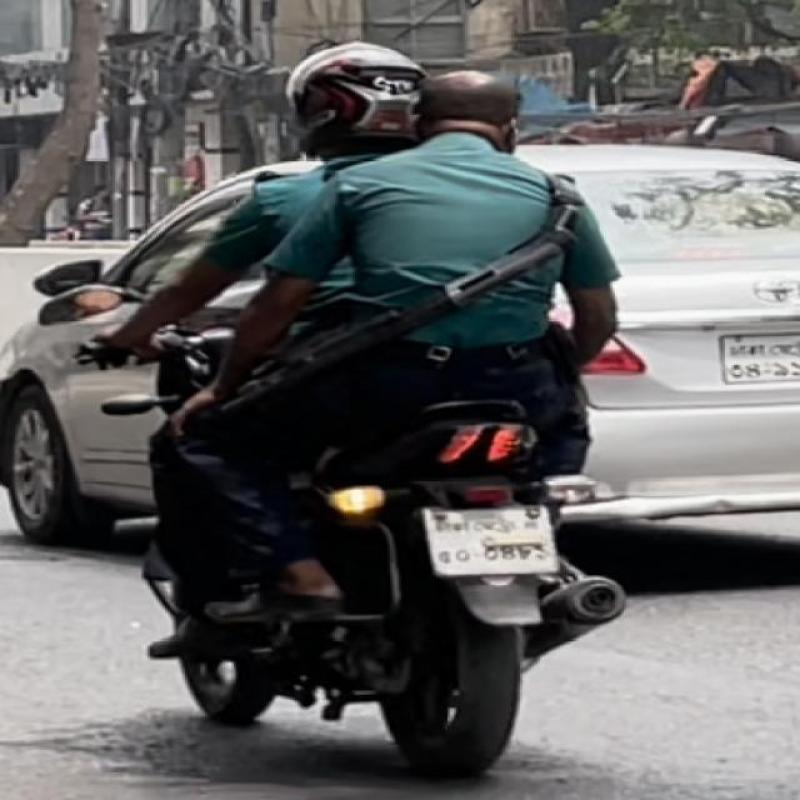nohelmet: (405, 64, 570, 152)
